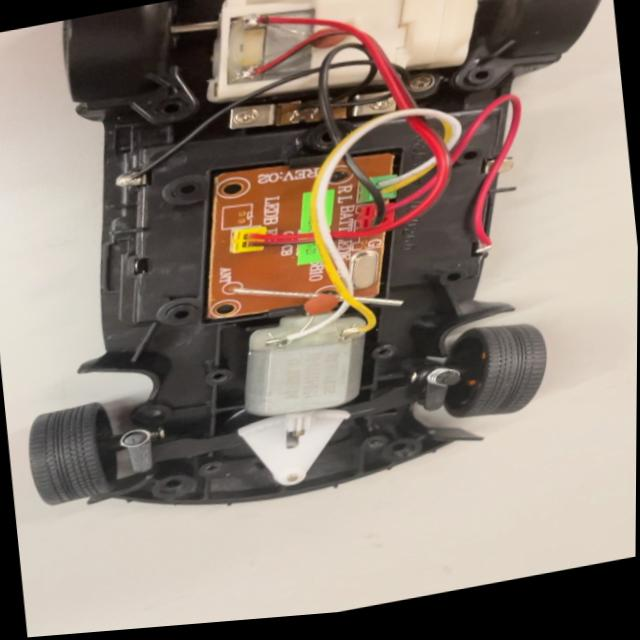motor: (229, 290, 391, 451)
wheel: (429, 311, 573, 443), (14, 390, 144, 521)
